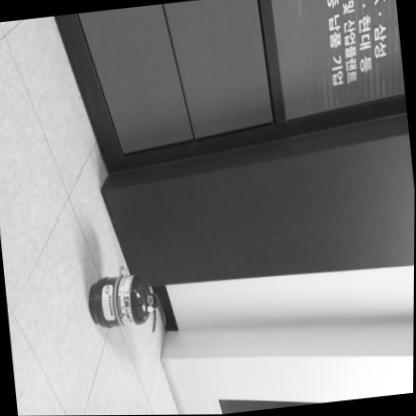FE: (86, 272, 169, 331)
